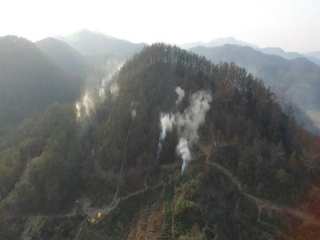smoke: (78, 66, 212, 176)
